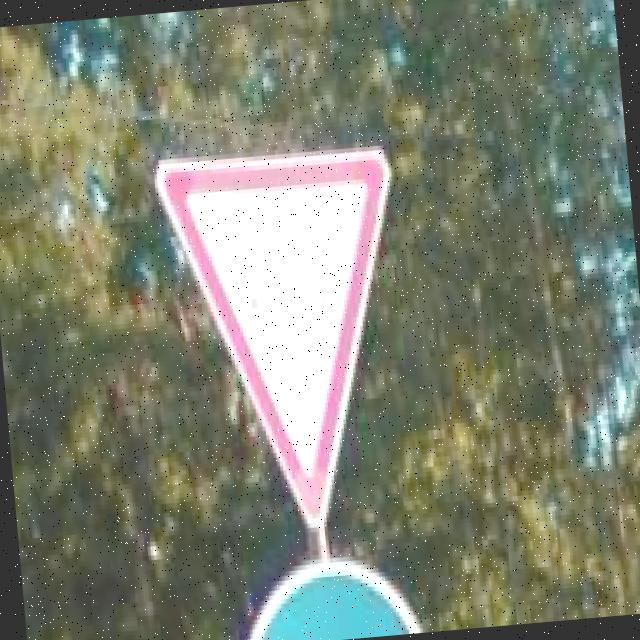Ustap pierwszenstwa: (152, 135, 424, 548)
